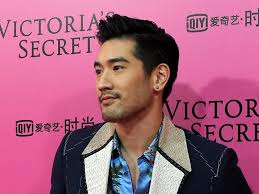asian_male: (78, 9, 188, 129)
